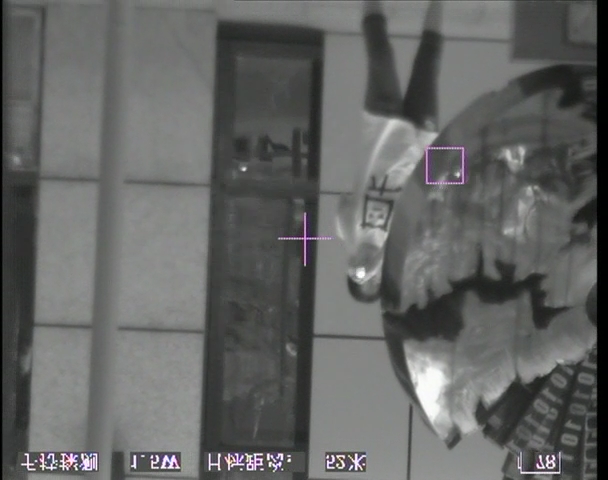my: (354, 265, 366, 279)
